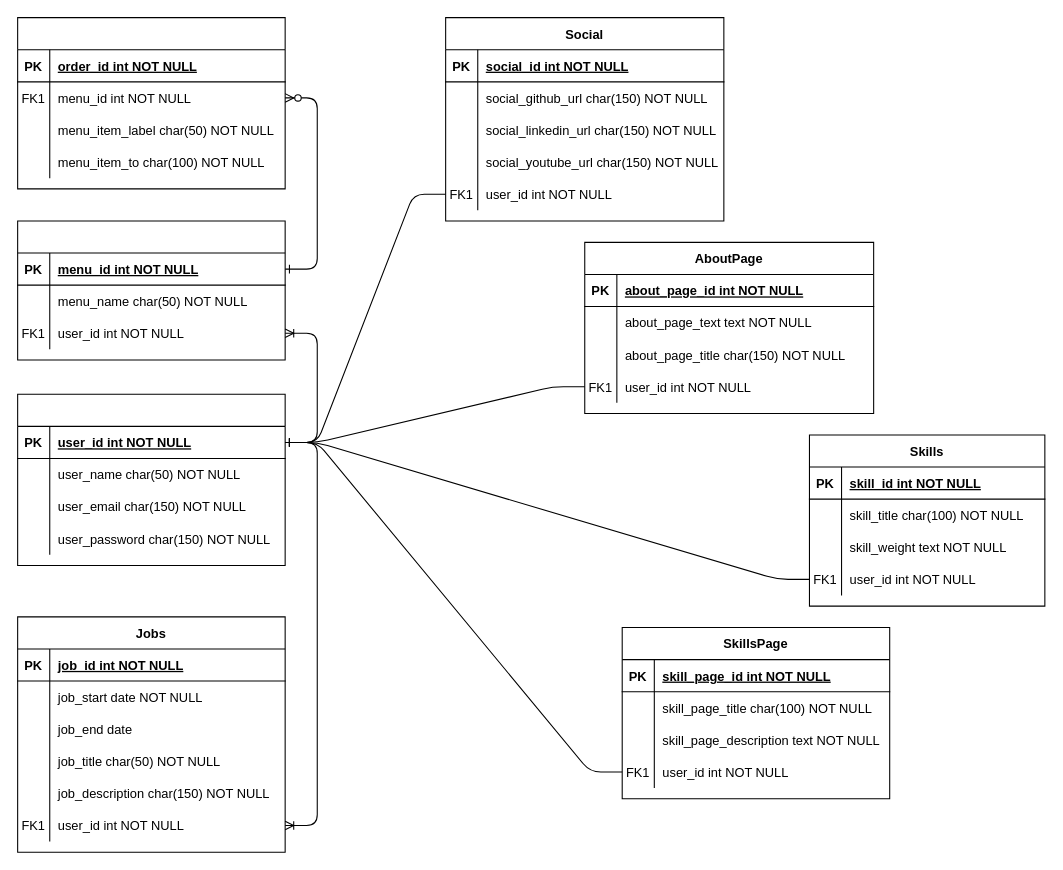
The diagram is 1063 pixels wide and 870 high, and some of its shapes have lost their labels. Here are the shapes that lost their labels. From the top down, the box of each, then its label:
(17, 17, 285, 189): MenuItems
(17, 220, 285, 360): Menus
(17, 393, 285, 565): Users
